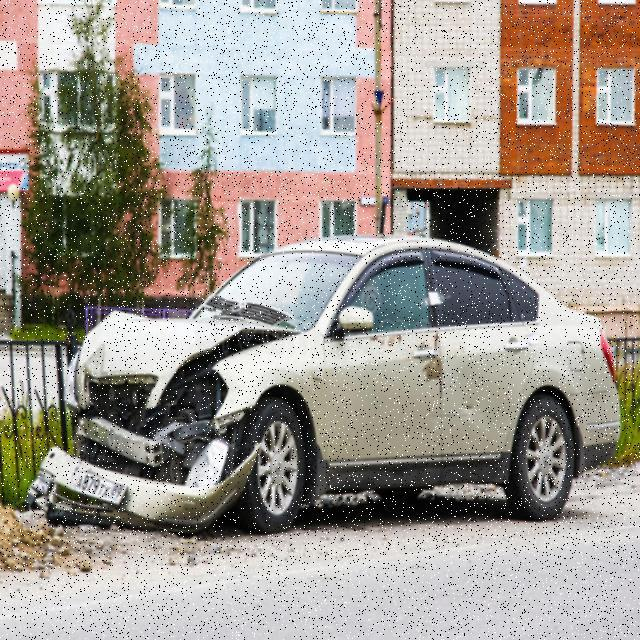car damage: (26, 428, 261, 531), (329, 334, 445, 466), (62, 303, 222, 391), (443, 333, 531, 455), (218, 337, 325, 437)
